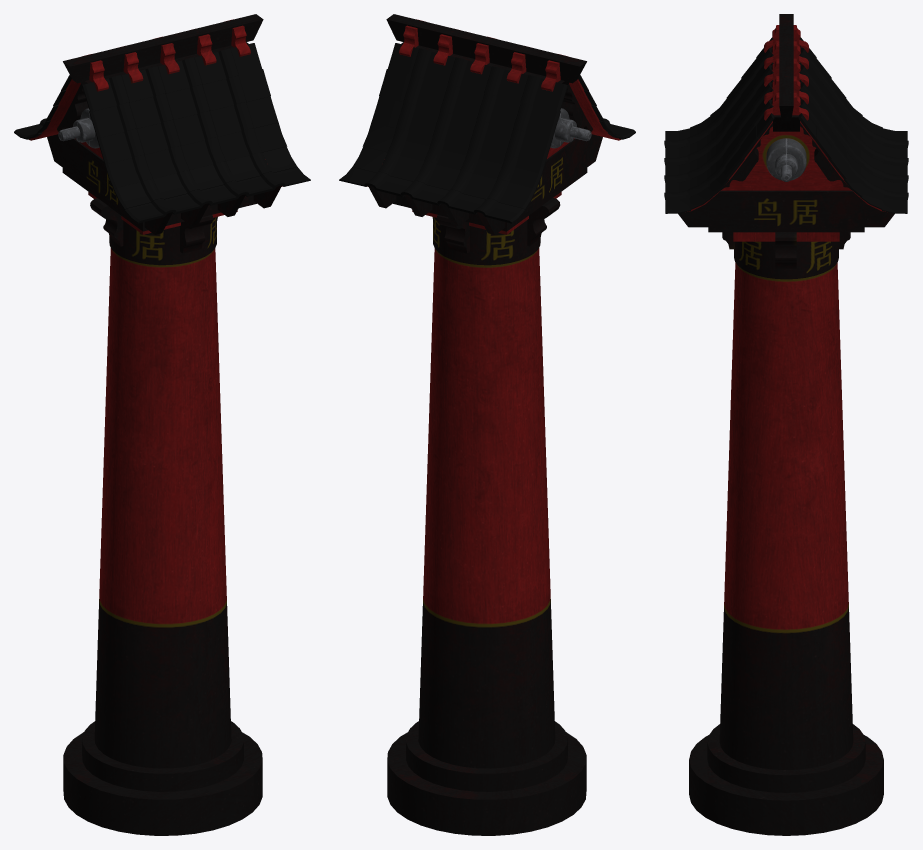
The model's file is oriental_structures_japanese_pole.glb.
3 views of the same model, side by side, from view 1: azimuth 30°, elevation 25°; view 2: azimuth 150°, elevation 25°; view 3: azimuth 270°, elevation 25° (orthographic). The views are drawn at different scales.
Parts seen in each view (by area): view 1: Pole; view 2: Pole; view 3: Pole.
Part boxes in pixels (x1,y1,x2,y2): Pole: (14,14,310,835); Pole: (339,14,635,835); Pole: (664,14,908,835).
Bounding box in the file's own units: 0.558 × 1.95 × 0.5875.
1 material, 1 textured.
